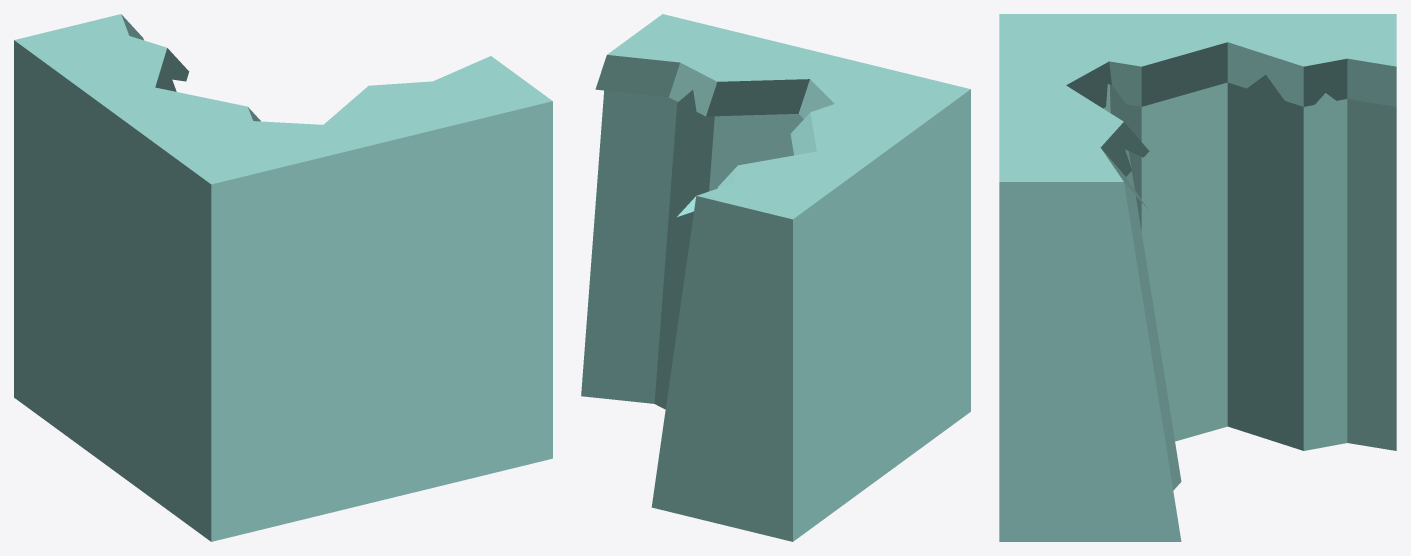
Rendered from cliffBrown_cornerInnerTop.glb.
The picture shows the model from 3 angles, left to right: view 1: azimuth 30°, elevation 25°; view 2: azimuth 150°, elevation 25°; view 3: azimuth 270°, elevation 25°; orthographic projection. The views are drawn at different scales.
Parts seen in each view (by area): view 1: cliffBrown_cornerInnerTop; view 2: cliffBrown_cornerInnerTop; view 3: cliffBrown_cornerInnerTop.
Part boxes in pixels (x1,y1,x2,y2): cliffBrown_cornerInnerTop: (14,14,552,541); cliffBrown_cornerInnerTop: (581,14,970,541); cliffBrown_cornerInnerTop: (999,14,1396,541).
Size of the model in its own units: 10 by 10 by 10.
